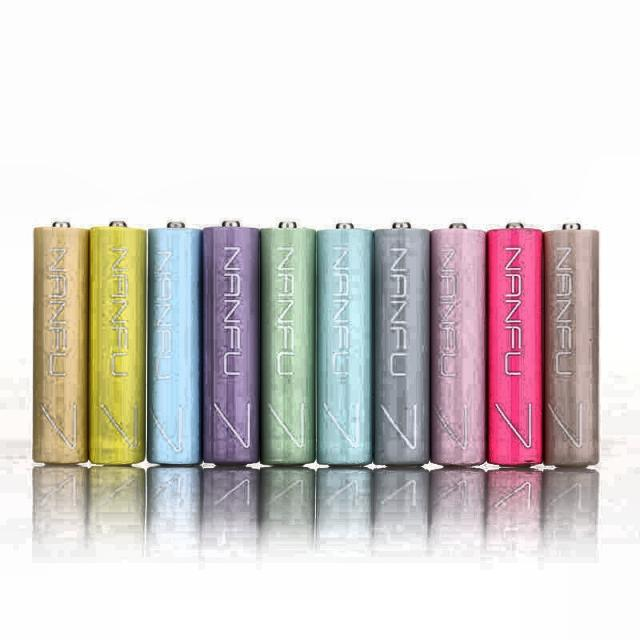Non-Valuable Waste - Batteries: (202, 226, 260, 465), (89, 221, 146, 464), (374, 221, 430, 466), (260, 221, 316, 466), (32, 224, 89, 463), (488, 228, 544, 466), (544, 224, 599, 466), (148, 221, 202, 465), (431, 229, 486, 466), (318, 224, 372, 465)
